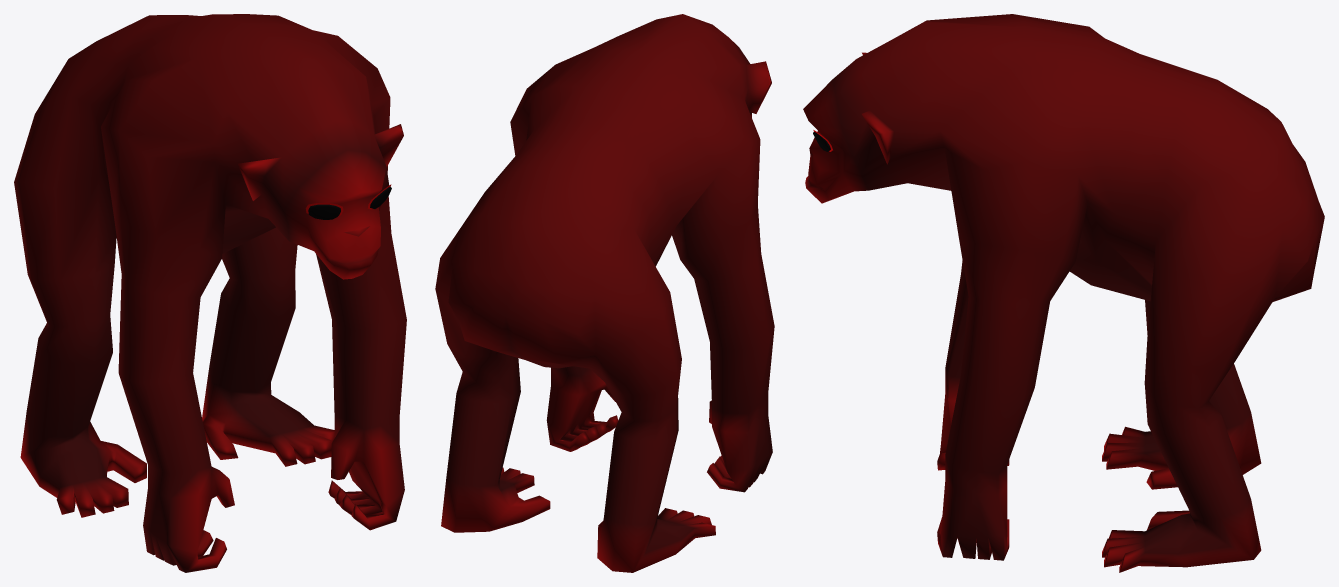
Rendered from Animals_Chimpanzee.fbx.
3 renders of one model, left to right at view 1: azimuth 30°, elevation 25°; view 2: azimuth 150°, elevation 25°; view 3: azimuth 270°, elevation 25°, orthographic. The views are drawn at different scales.
Parts seen in each view (by area): view 1: base; view 2: base; view 3: base.
Boxes of the visible parts, x1,y1,x2,y2 form: base: (14,14,406,572); base: (435,14,774,572); base: (803,14,1324,572).
Size of the model in its own units: 54.64 by 92.04 by 89.77.
